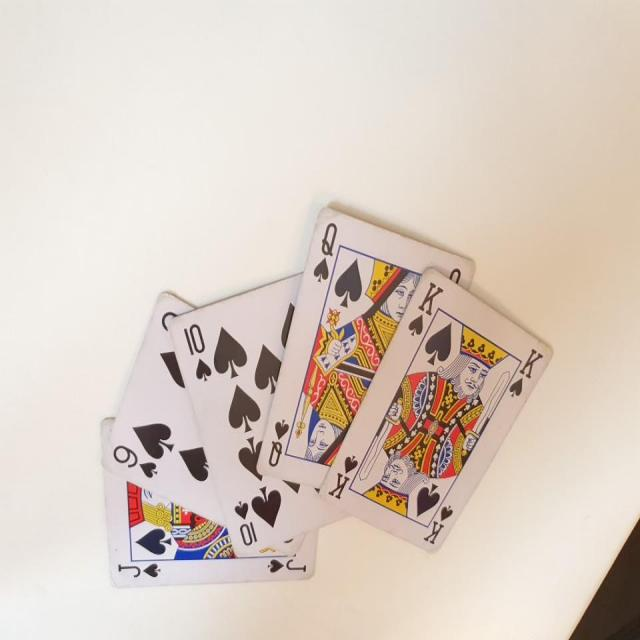10 Spades: (179, 279, 318, 552)
9 Spades: (98, 276, 275, 540)
J Spades: (100, 414, 322, 593)
K Spades: (311, 266, 557, 586)
Q Spades: (255, 207, 464, 485)
